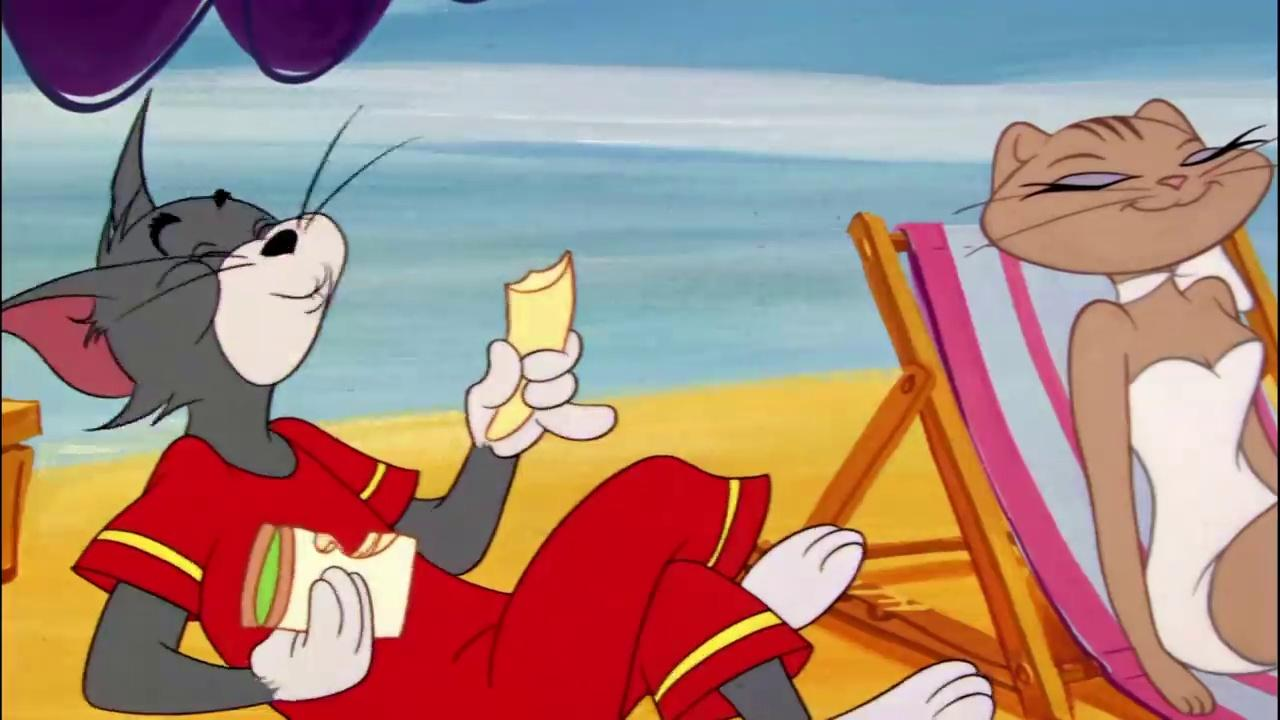Tom: (3, 88, 995, 720)
